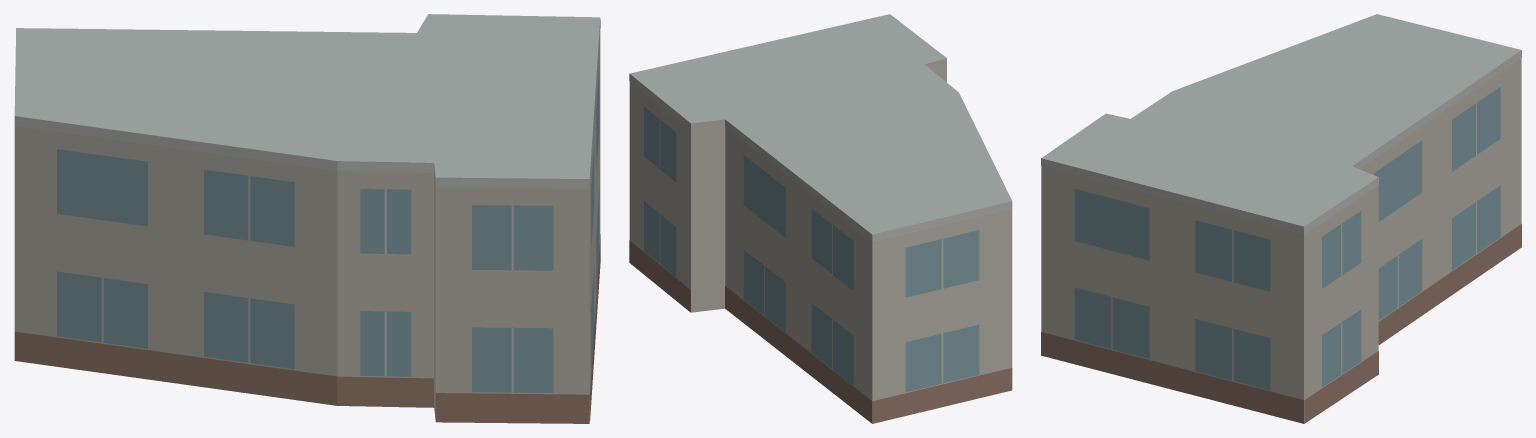
File: survey-upis-32747137.glb
The picture shows the model from 3 angles, left to right: view 1: azimuth 30°, elevation 25°; view 2: azimuth 150°, elevation 25°; view 3: azimuth 270°, elevation 25°; orthographic projection. The views are drawn at different scales.
Visible parts, largest first — view 1: survey-upis-32747137.tmp; view 2: survey-upis-32747137.tmp; view 3: survey-upis-32747137.tmp.
Part boxes in pixels (x1,y1,x2,y2): survey-upis-32747137.tmp: (14,14,600,423); survey-upis-32747137.tmp: (629,14,1012,423); survey-upis-32747137.tmp: (1041,14,1521,423).
Bounding box in the file's own units: 14.11 × 6.1 × 13.48.
